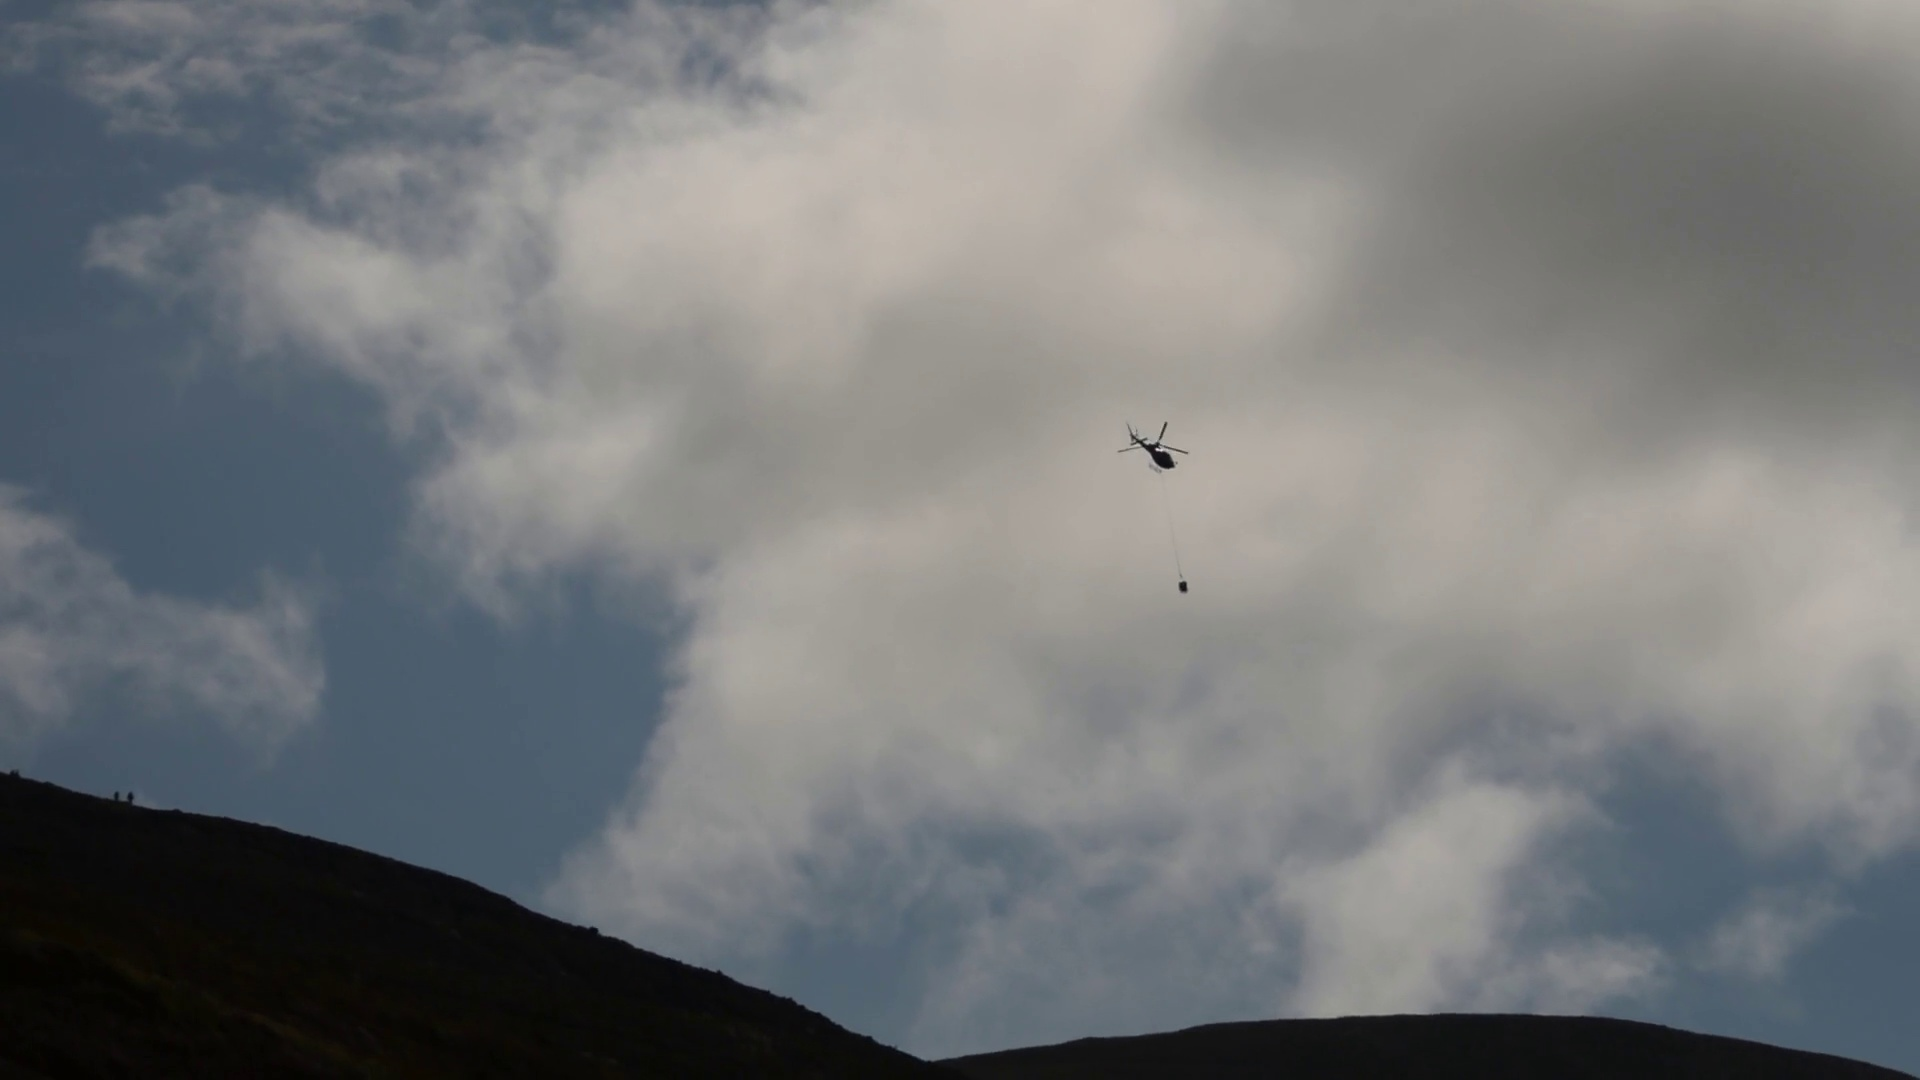heli: (1116, 422, 1188, 475)
